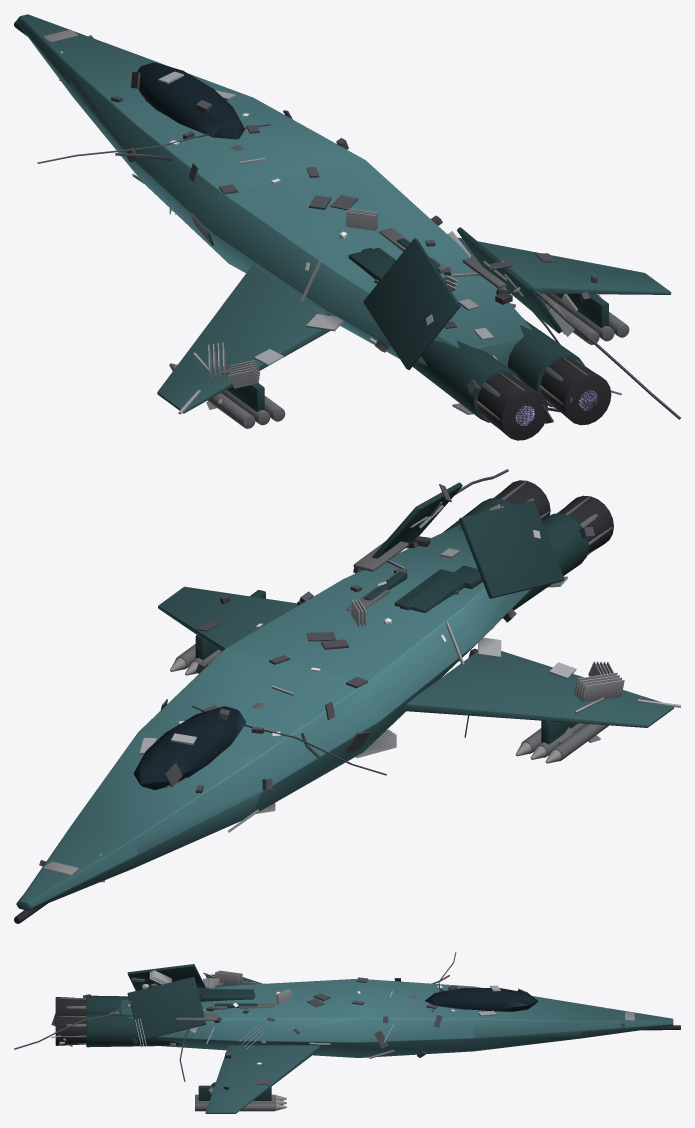
Rendered from ship_raptor.glb.
3 views of the same model, one above another, from view 1: azimuth 30°, elevation 25°; view 2: azimuth 150°, elevation 25°; view 3: azimuth 270°, elevation 25° (orthographic). The views are drawn at different scales.
Parts seen in each view (by area): view 1: ShipRaptor; view 2: ShipRaptor; view 3: ShipRaptor.
Part boxes in pixels (x1,y1,x2,y2): ShipRaptor: [14, 14, 680, 440]; ShipRaptor: [14, 469, 680, 923]; ShipRaptor: [14, 952, 680, 1113].
Bounding box in the file's own units: 8.61 × 2.61 × 17.39.
